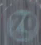Speed limit: (0, 2, 40, 39)
